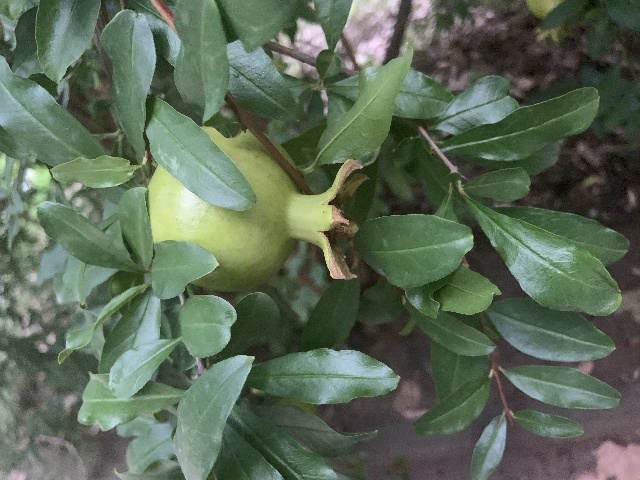mid-growth: (146, 124, 370, 293), (524, 0, 580, 43)
